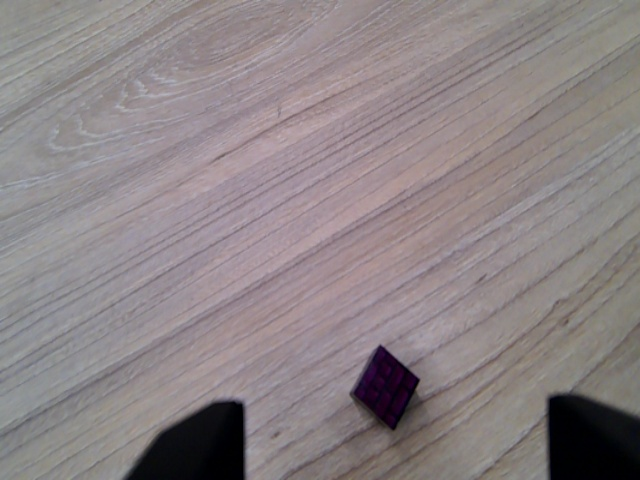brick: (351, 343, 421, 432)
